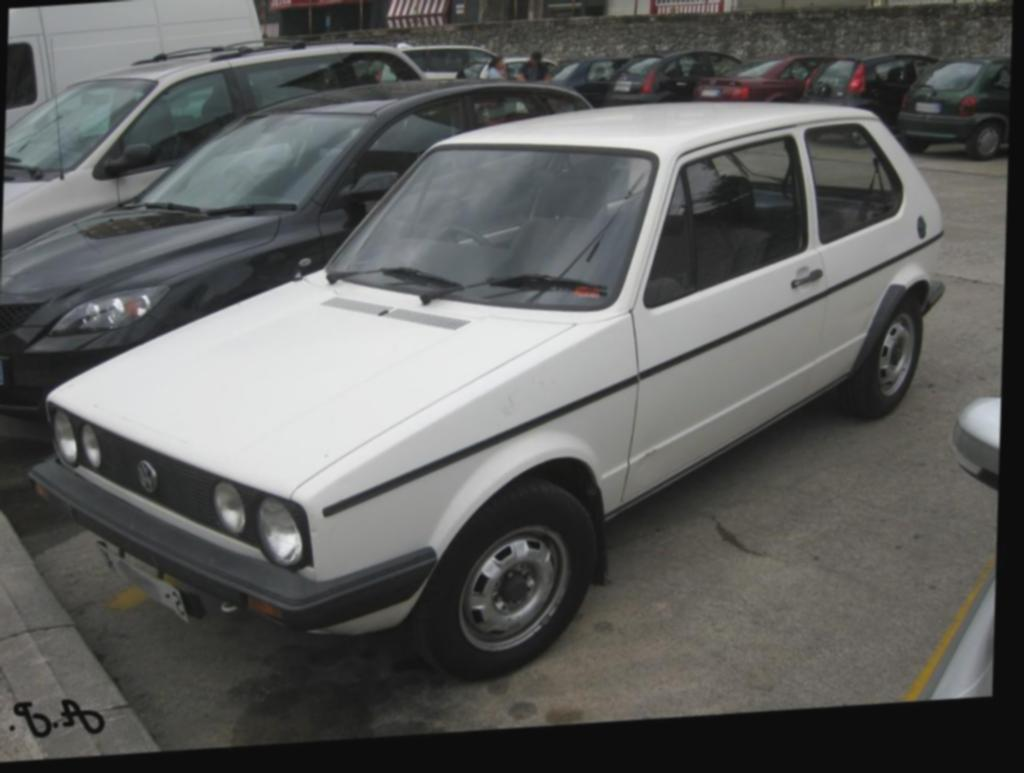License_Plate: (90, 538, 185, 630)
